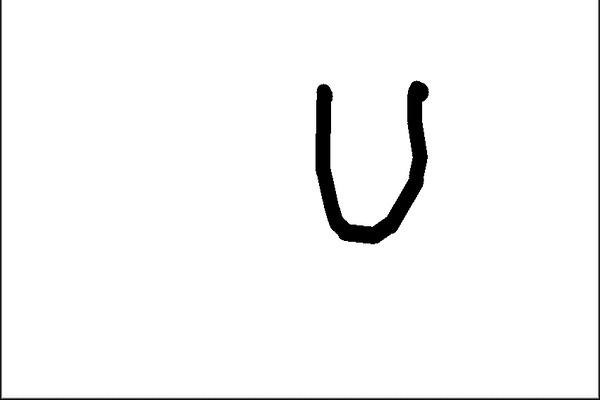U: (294, 69, 436, 247)
